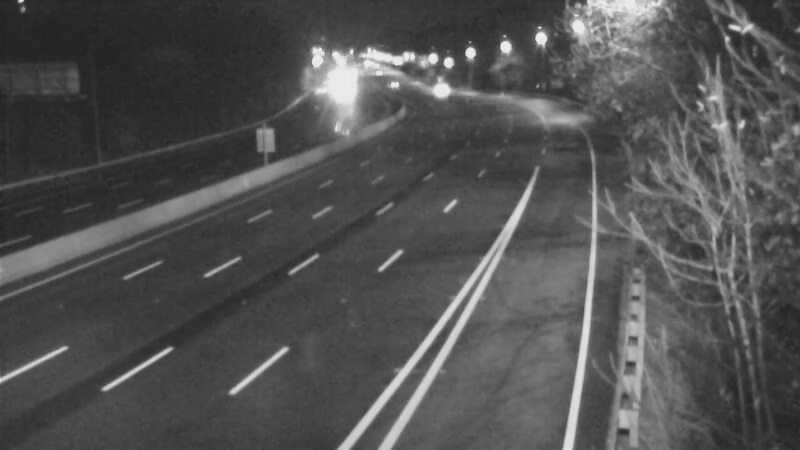vehicle: (365, 55, 415, 105), (419, 70, 469, 120), (318, 66, 368, 116)
